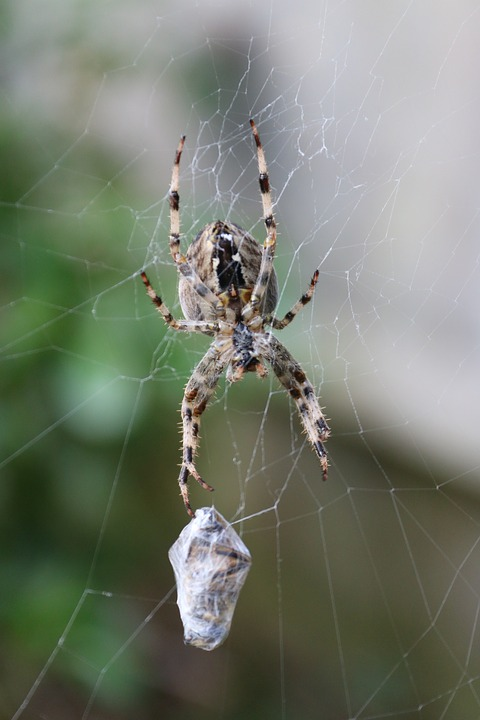spider: (127, 94, 343, 524)
